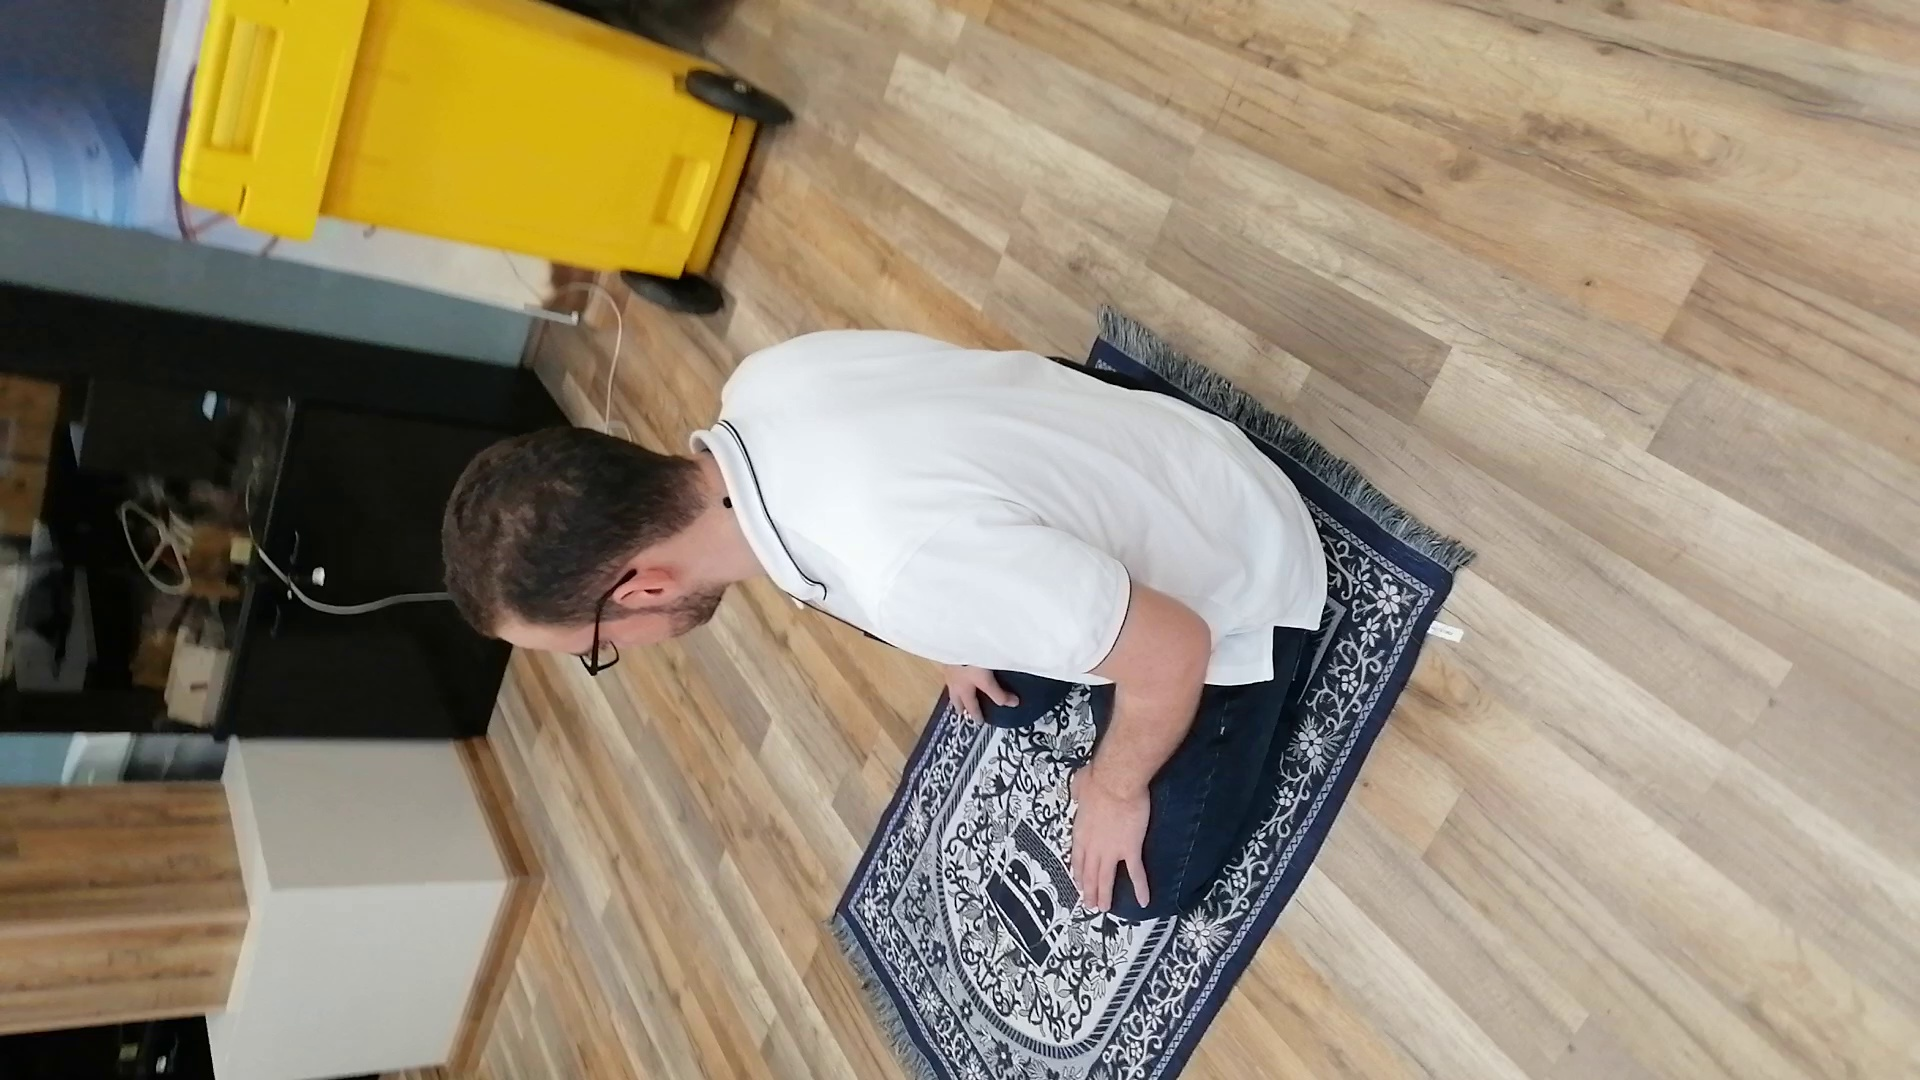sitting: (421, 316, 1342, 927)
